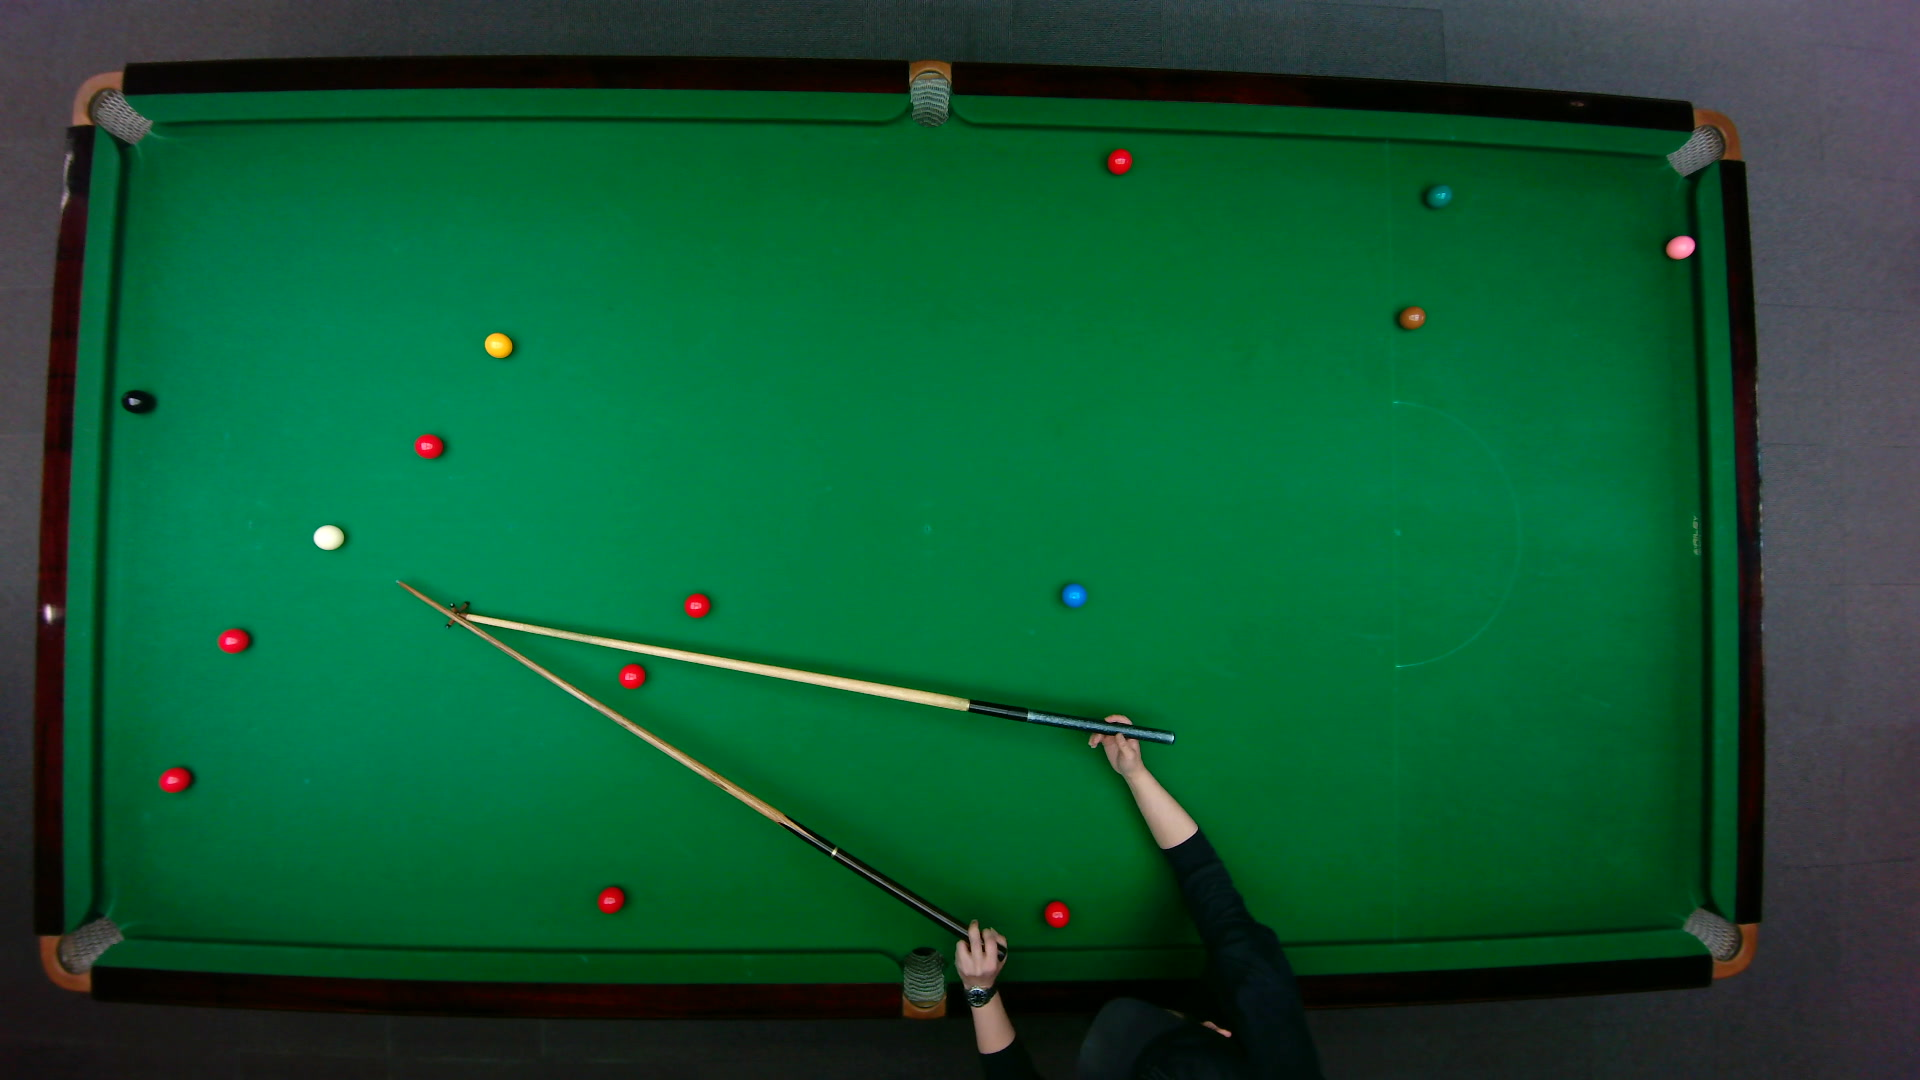bag: (37, 914, 125, 992), (69, 69, 153, 145), (1679, 905, 1756, 978), (1663, 107, 1741, 177), (901, 944, 945, 1021), (909, 58, 949, 128)
black: (119, 388, 153, 414)
blue: (1058, 580, 1088, 608)
brown: (1396, 305, 1427, 328)
cue: (393, 575, 973, 943)
green: (1422, 182, 1453, 208)
pink: (1663, 232, 1697, 260)
red: (156, 765, 193, 793), (216, 626, 251, 653), (595, 884, 624, 914), (1104, 146, 1133, 175), (1042, 899, 1071, 928), (411, 433, 444, 458), (682, 591, 709, 618), (617, 662, 646, 688)
white: (310, 522, 345, 550)
yellow: (481, 328, 514, 359)
zone: (1390, 400, 1520, 667)
